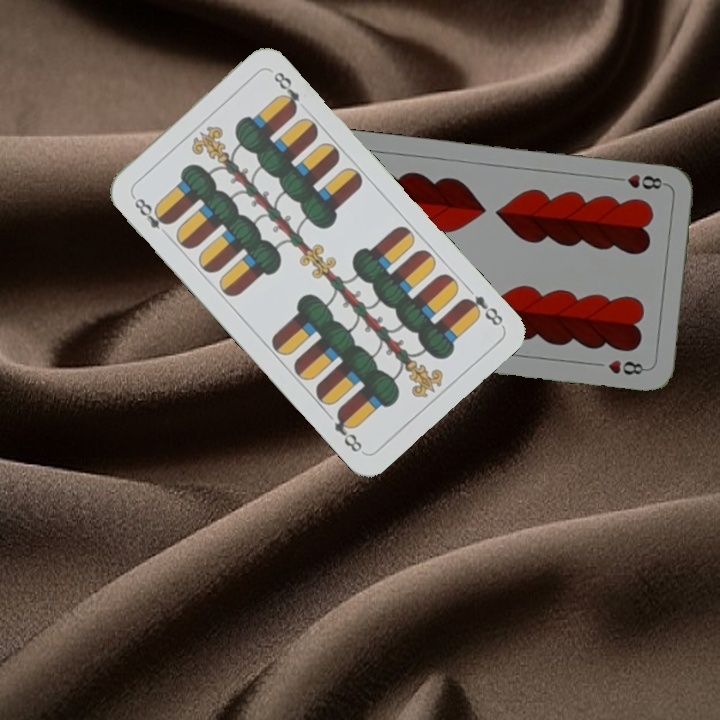E8: (128, 191, 174, 233), (458, 291, 506, 329)
H8: (610, 170, 669, 192)
